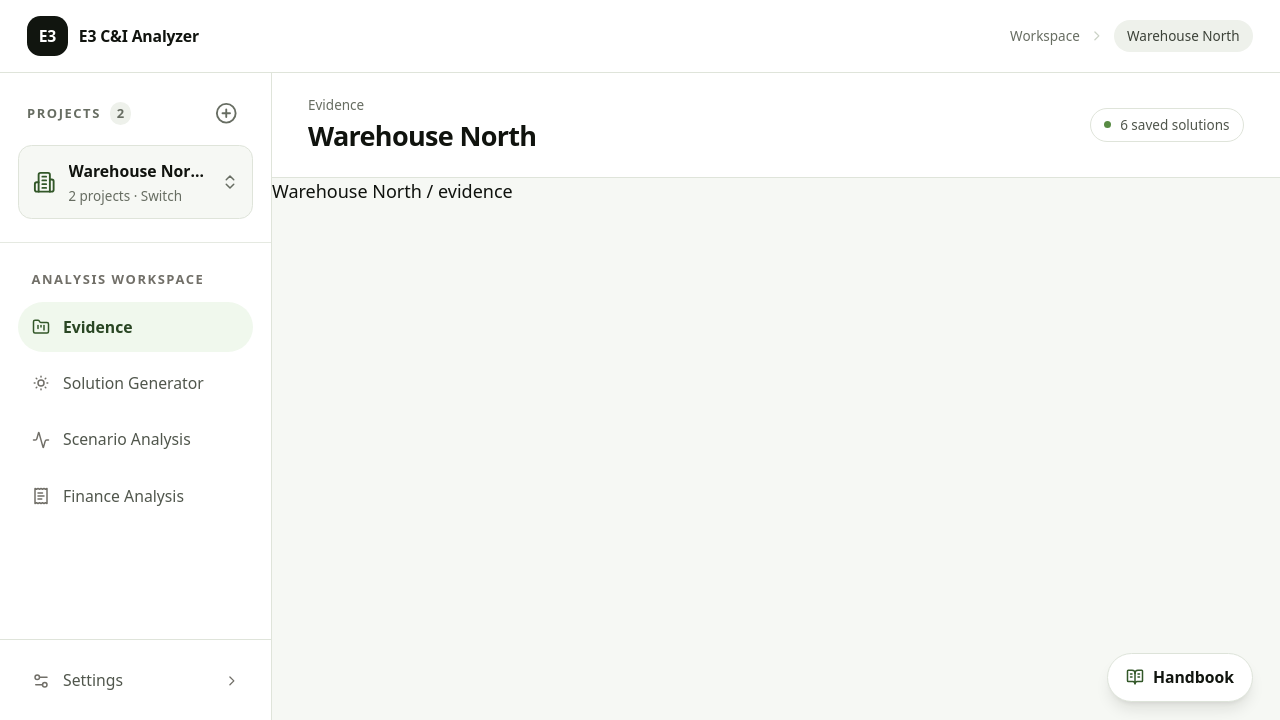
Test case: C&I application navigation › switches modules and returns to Evidence from the brand without reloading the registry
expect the heading "Warehouse North" is shown: met, box [308,118,536,154]
Click the button "Scenario Analysis".
click(136, 440)  # box [18,415,253,464]
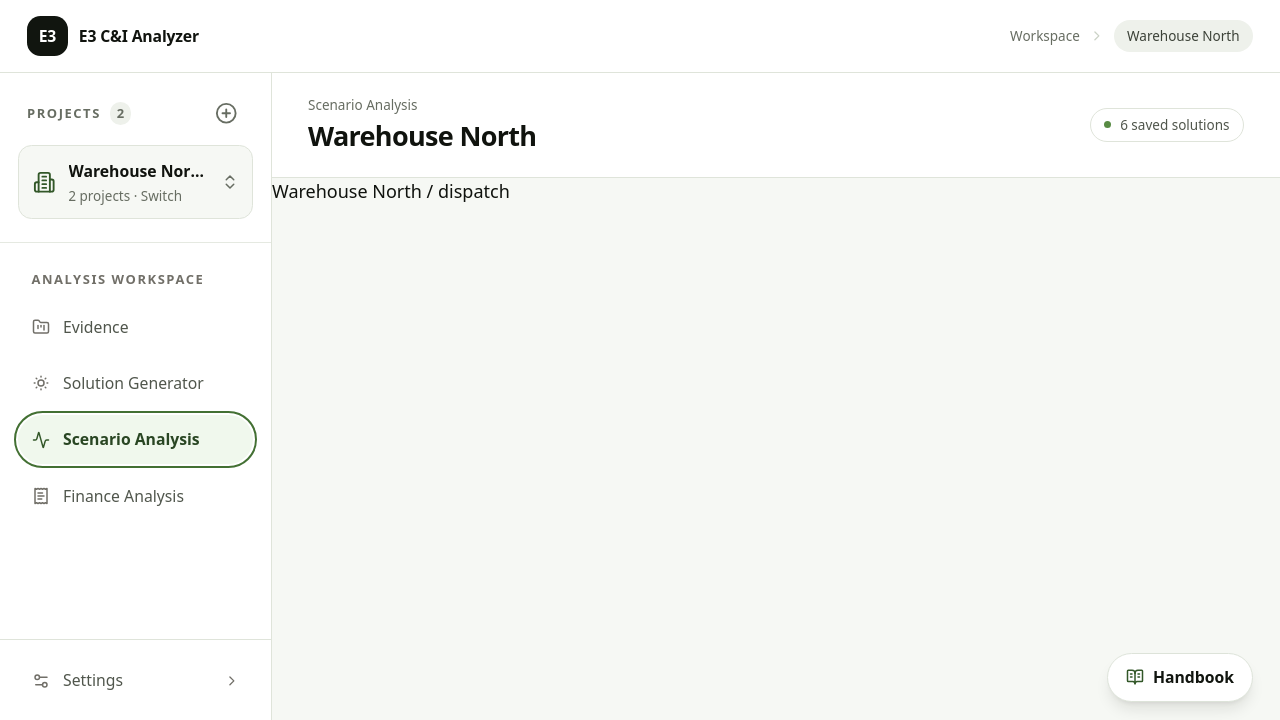
expect the text named "Current workspace" reads "Warehouse North / dispatch": met, box [272,178,510,202]
Click the button "E3 E3 C&I Analyzer".
click(113, 36)  # box [27,16,199,56]
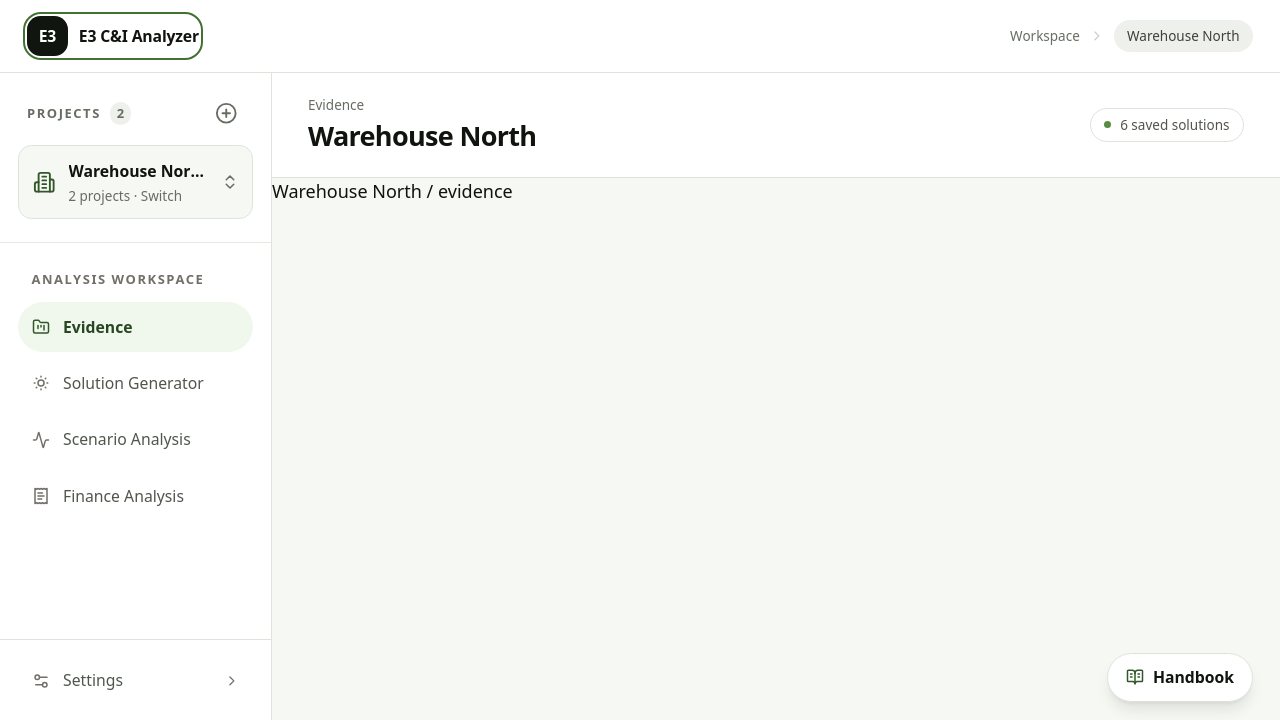
expect the text named "Current workspace" reads "Warehouse North / evidence": met, box [272,178,513,202]
